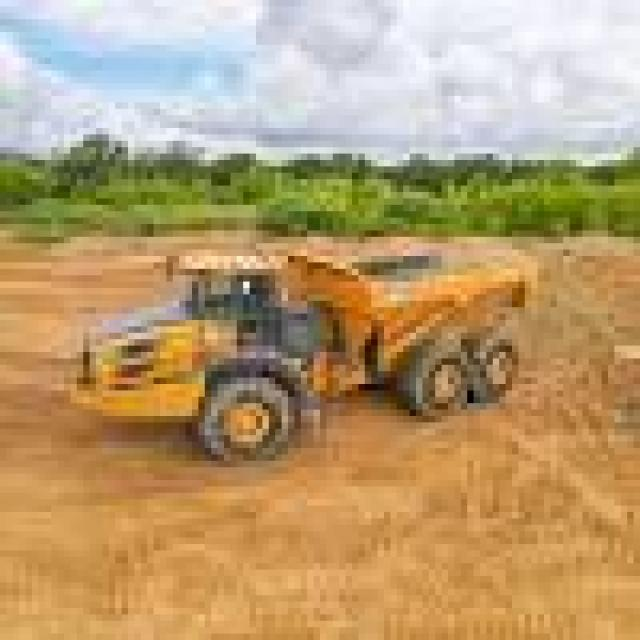dump_truck: (51, 173, 576, 493)
